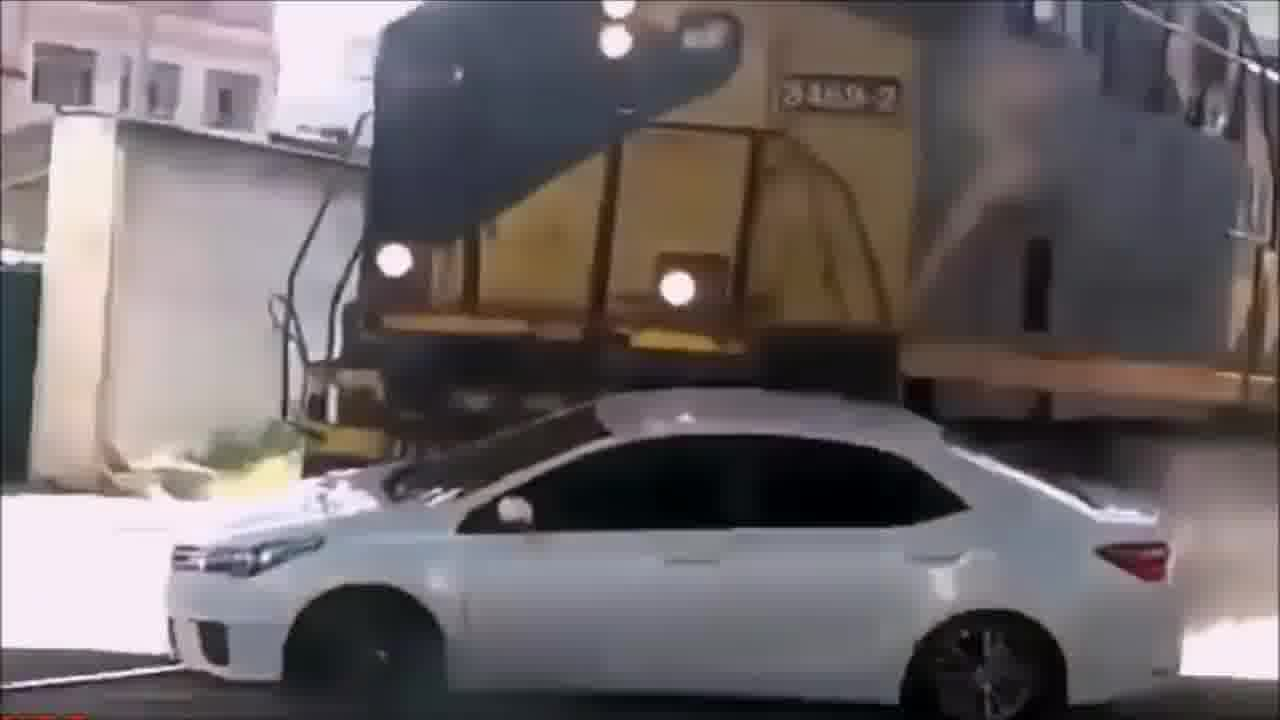crossing railway track: (86, 368, 1227, 709)
